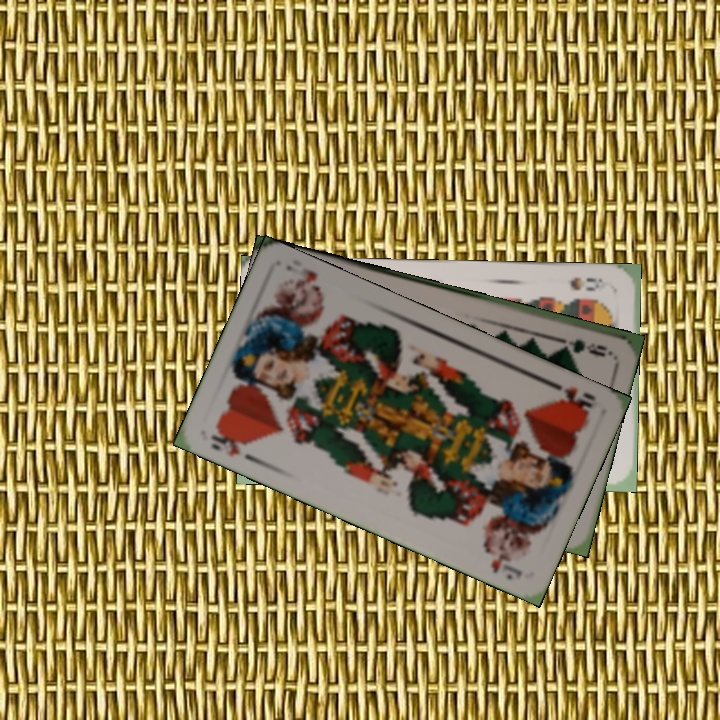G9: (555, 334, 613, 360)
HO: (543, 376, 598, 416), (206, 424, 259, 465)
S8: (566, 273, 614, 294)
